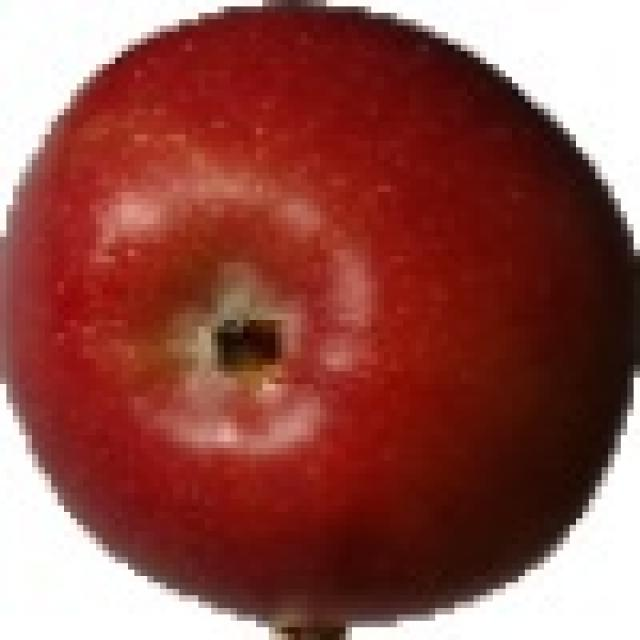apple: (7, 8, 632, 622)
